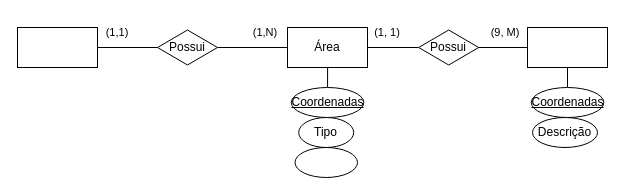
Some shapes in this 625 by 195 pixel diagram are drawn without their labels. The shapes that lost their labels are listed below. From the top down, each one's box as (x1, y1, x2, y2) in pixels, then its label:
(16, 26, 98, 68): Mapa
(526, 26, 608, 68): Quadrado
(294, 146, 358, 178): Tamanho
